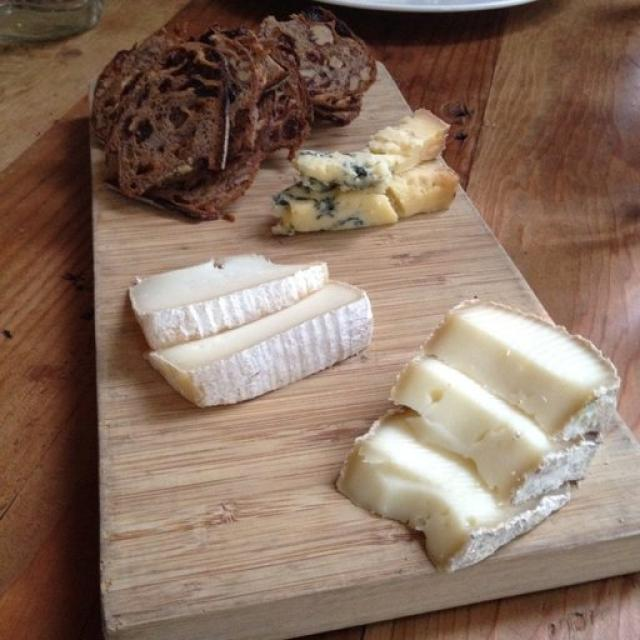cheese: (350, 296, 605, 569), (122, 259, 366, 405)
